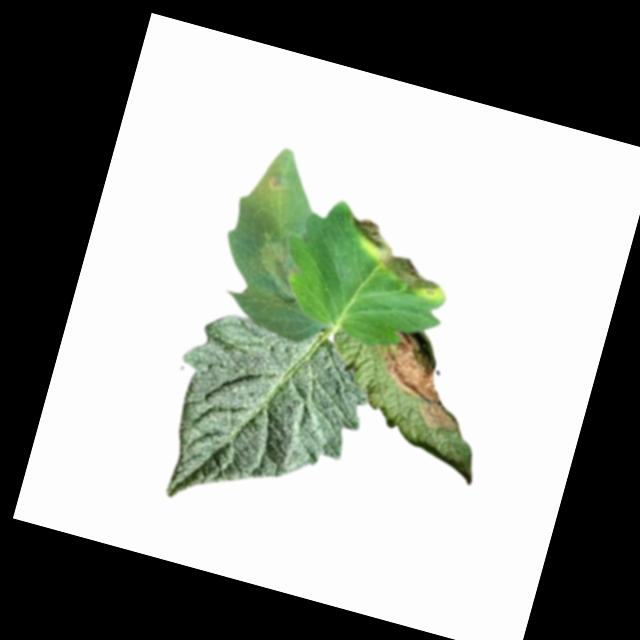Late_blight: (366, 328, 478, 436), (337, 217, 457, 304), (243, 217, 314, 305), (253, 168, 284, 203)
healthy: (145, 304, 380, 542)
